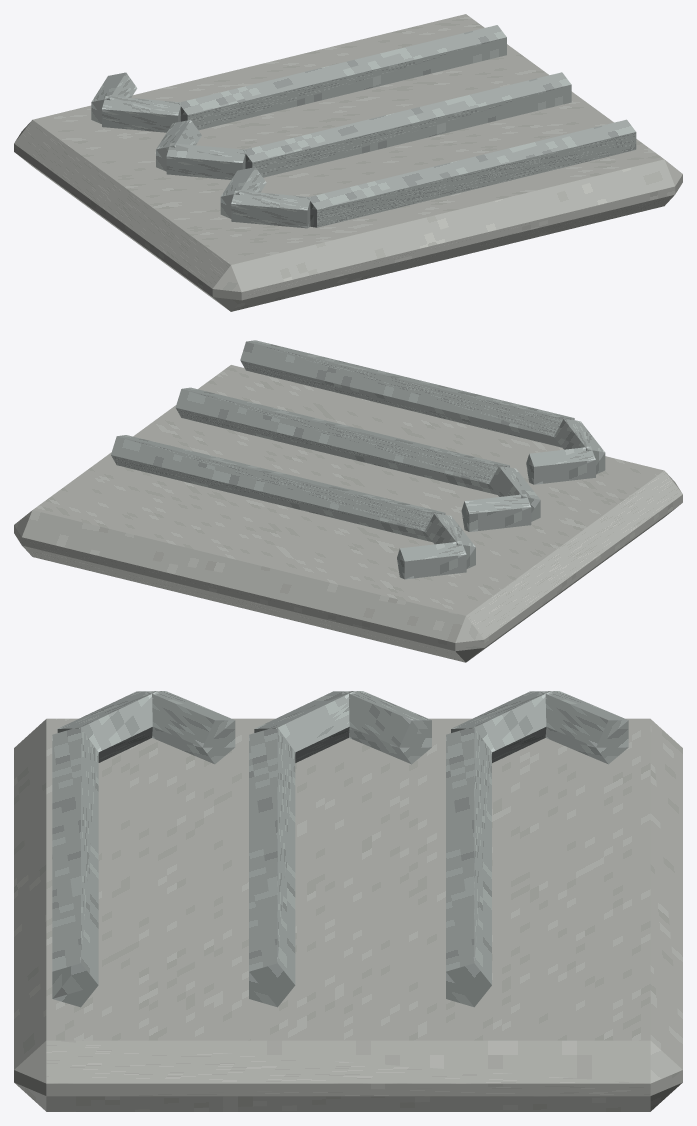
Rendered from stand_ring_clamps.glb.
3 renders of one model, top to bottom at view 1: azimuth 30°, elevation 25°; view 2: azimuth 150°, elevation 25°; view 3: azimuth 270°, elevation 25°, orthographic. The views are drawn at different scales.
Visible parts, largest first — view 1: block_supply tray, block_loose clamp 2 (×3), block_loose clamp 1 (×3), block_loose clamp 0 (×3); view 2: block_supply tray, block_loose clamp 2 (×3), block_loose clamp 0 (×3), block_loose clamp 1 (×3); view 3: block_supply tray, block_loose clamp 2 (×3), block_loose clamp 0 (×3), block_loose clamp 1 (×3).
Part boxes in pixels (x1,y1,x2,y2): block_supply tray: (14,14,682,311); block_loose clamp 2 (×3): (178,25,636,227); block_loose clamp 1 (×3): (102,96,311,228); block_loose clamp 0 (×3): (91,72,266,218); block_supply tray: (14,365,682,662); block_loose clamp 2 (×3): (111,340,574,542); block_loose clamp 0 (×3): (397,446,595,579); block_loose clamp 1 (×3): (424,418,605,568); block_supply tray: (14,718,682,1111); block_loose clamp 2 (×3): (52,726,491,1007); block_loose clamp 0 (×3): (145,691,628,764); block_loose clamp 1 (×3): (57,691,552,762).
Bounding box in the file's own units: 0.1441 × 0.0248 × 0.1166.
1 material, 1 textured.
